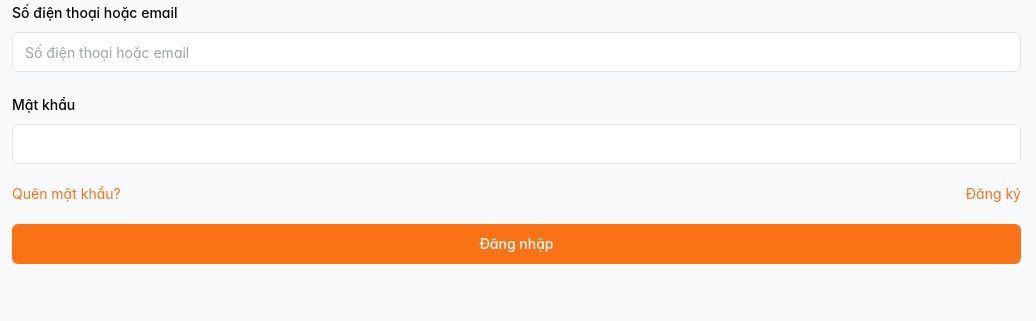
Test: auth forms › logs in by phone and shows submit errors inline
Type "0903026306" into the field labelled "Số điện thoại hoặc email" at coordinates (516, 52), box [12,32,1021,72]
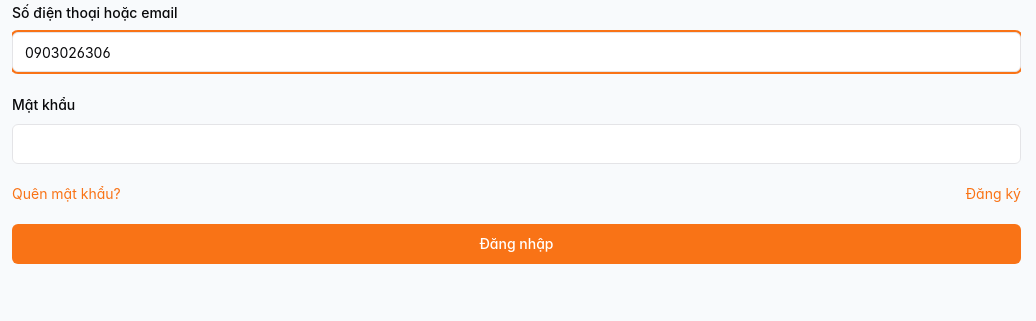
Type "Abc123" into the password field labelled "Mật khẩu" at coordinates (516, 144), box [12,124,1021,164]
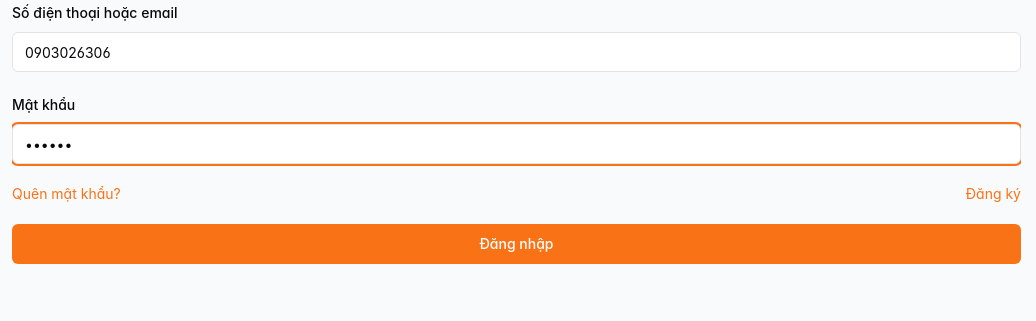
Click the button "Đăng nhập" at coordinates (516, 244), box [12,224,1021,264]
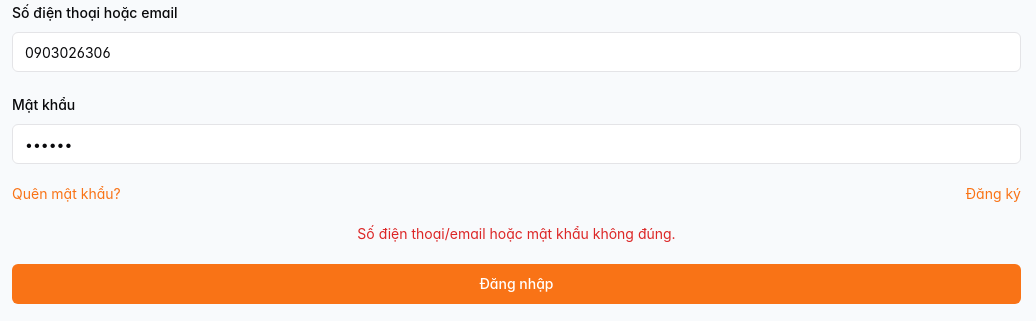
Expected: the text "Số điện thoại/email hoặc mật khẩu không đúng." is shown, [357,225,676,242]
